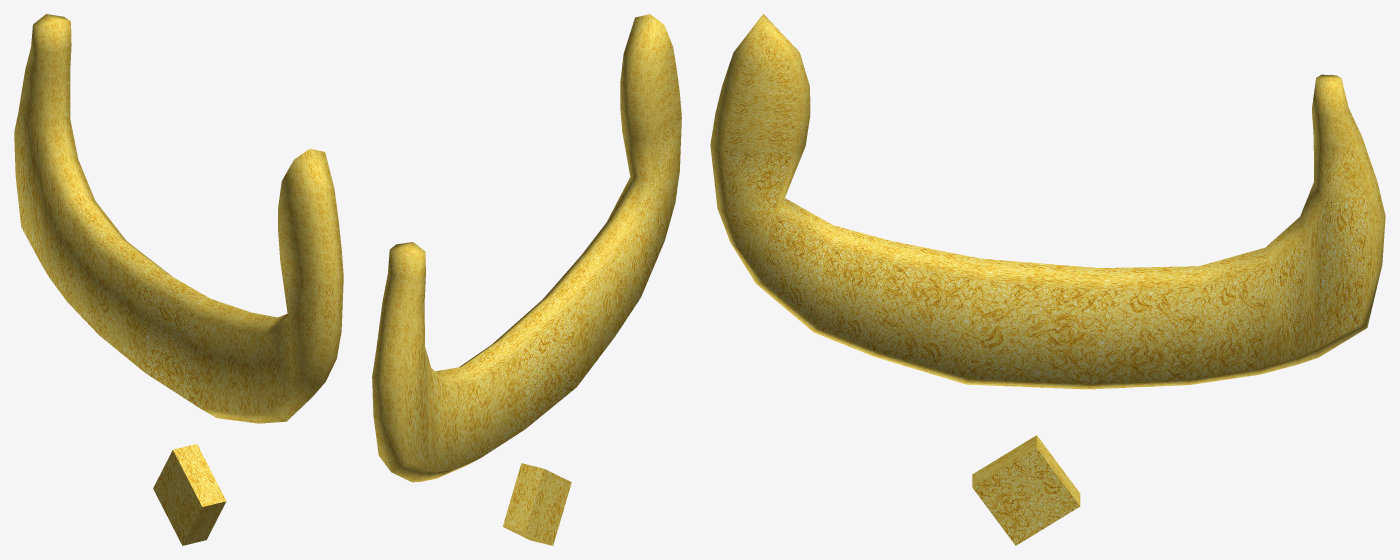
The picture shows the model from 3 angles, left to right: view 1: azimuth 30°, elevation 25°; view 2: azimuth 150°, elevation 25°; view 3: azimuth 270°, elevation 25°; orthographic projection. The views are drawn at different scales.
Visible parts, largest first — view 1: be; view 2: be; view 3: be.
Part boxes in pixels (bbox=[...]): be: bbox=[14, 14, 343, 545]; be: bbox=[372, 14, 681, 545]; be: bbox=[710, 14, 1385, 545].
Bounding box in the file's own units: 12.85 × 212 × 182.
Materials: 1 (1 with a texture image).
